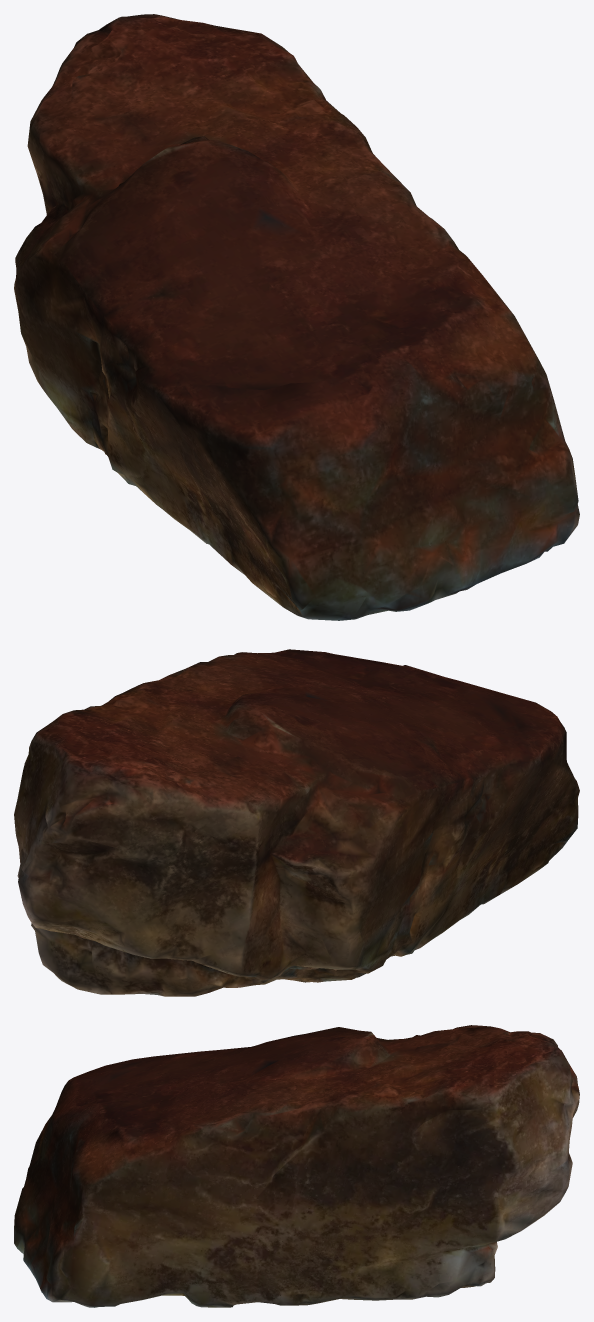
Rendered from rock_a.glb.
The picture shows the model from 3 angles, top to bottom: view 1: azimuth 30°, elevation 25°; view 2: azimuth 150°, elevation 25°; view 3: azimuth 270°, elevation 25°; orthographic projection. The views are drawn at different scales.
Visible parts, largest first — view 1: rock_07; view 2: rock_07; view 3: rock_07.
Part boxes in pixels (x1,y1,x2,y2): rock_07: (14,14,579,620); rock_07: (14,649,579,996); rock_07: (14,1025,579,1307).
Bounding box in the file's own units: 0.1686 × 0.1437 × 0.3199.
1 material, 1 textured.
